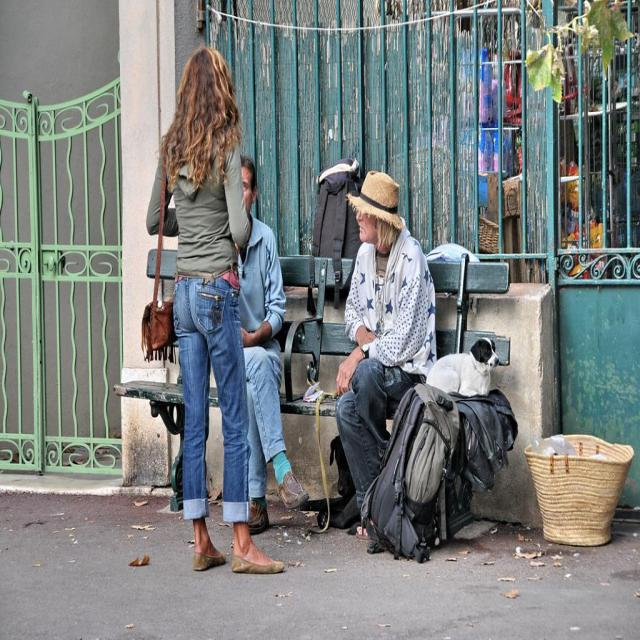backpack: (362, 381, 460, 573), (308, 161, 363, 289)
